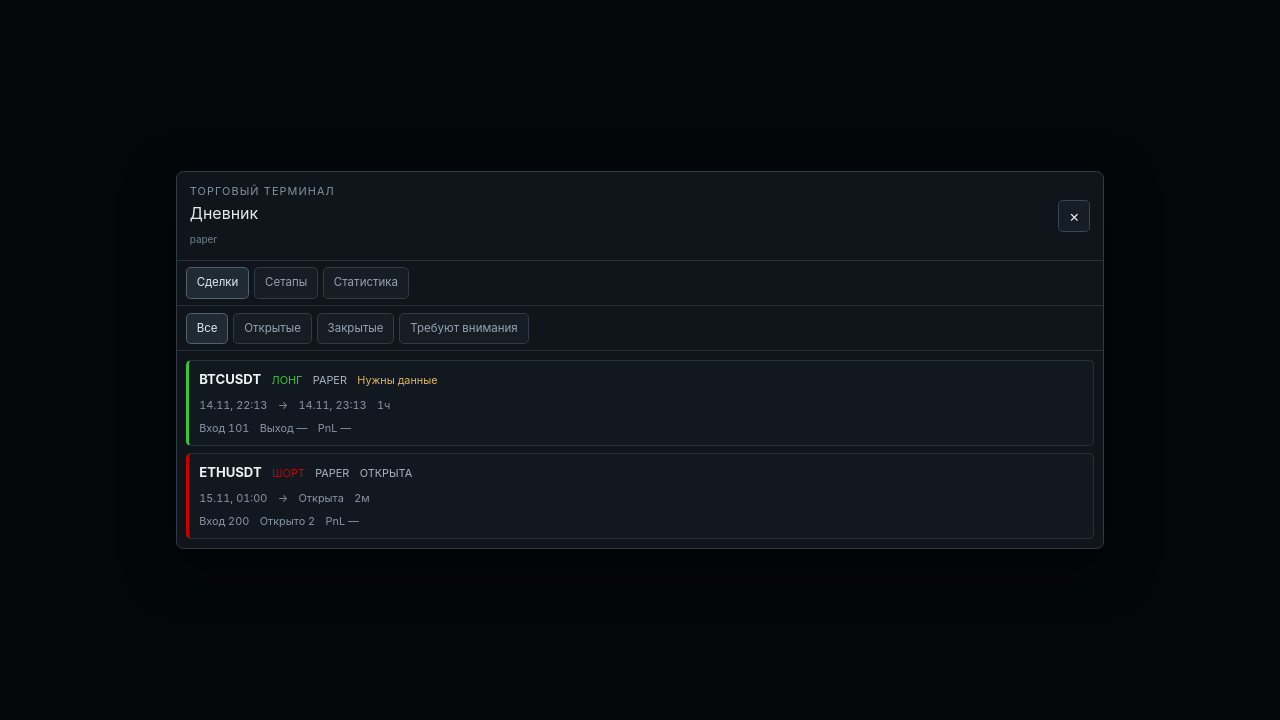
it: DiaryOverlay › opens read-only trade details with Russian UI labels
This screenshot has width=1280, height=720.
Click the button "BTCUSDT" at (230, 379), box [186, 360, 1094, 446]
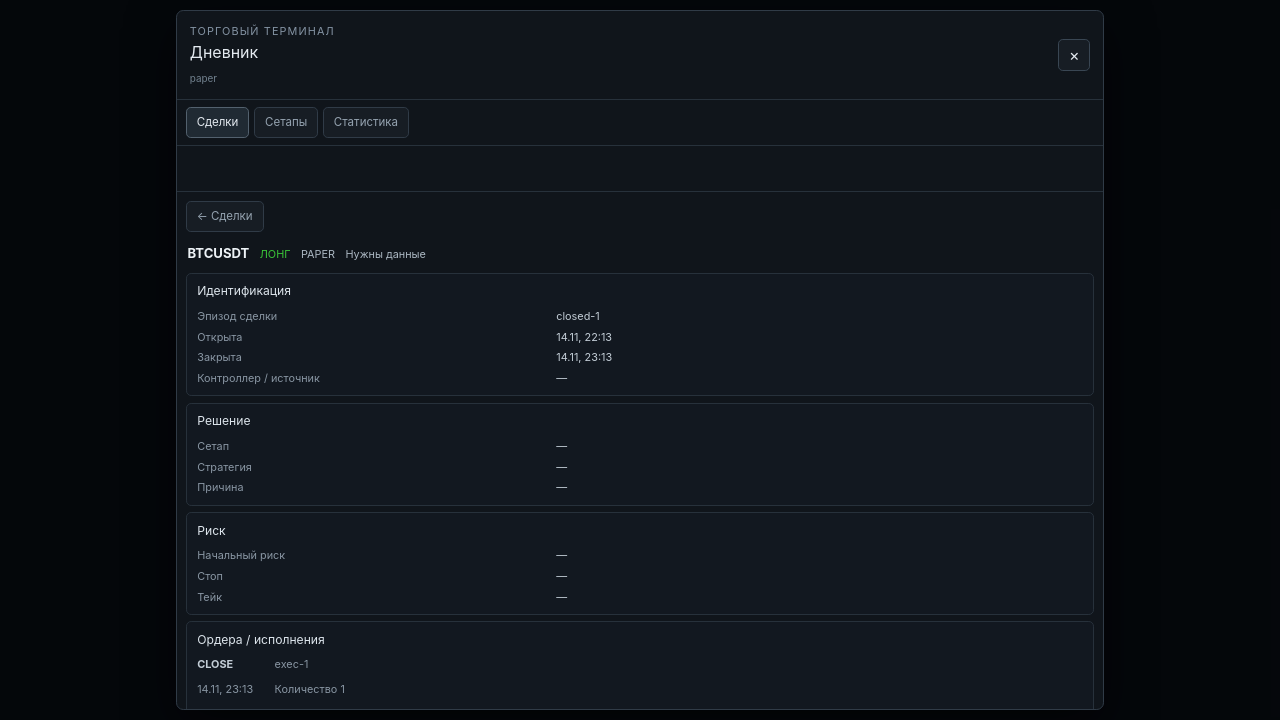
expect the heading "Идентификация" is shown: met, box [197, 283, 291, 298]
expect the heading "Решение" is shown: met, box [197, 414, 250, 428]
expect the heading "Риск" is shown: met, box [197, 523, 226, 538]
